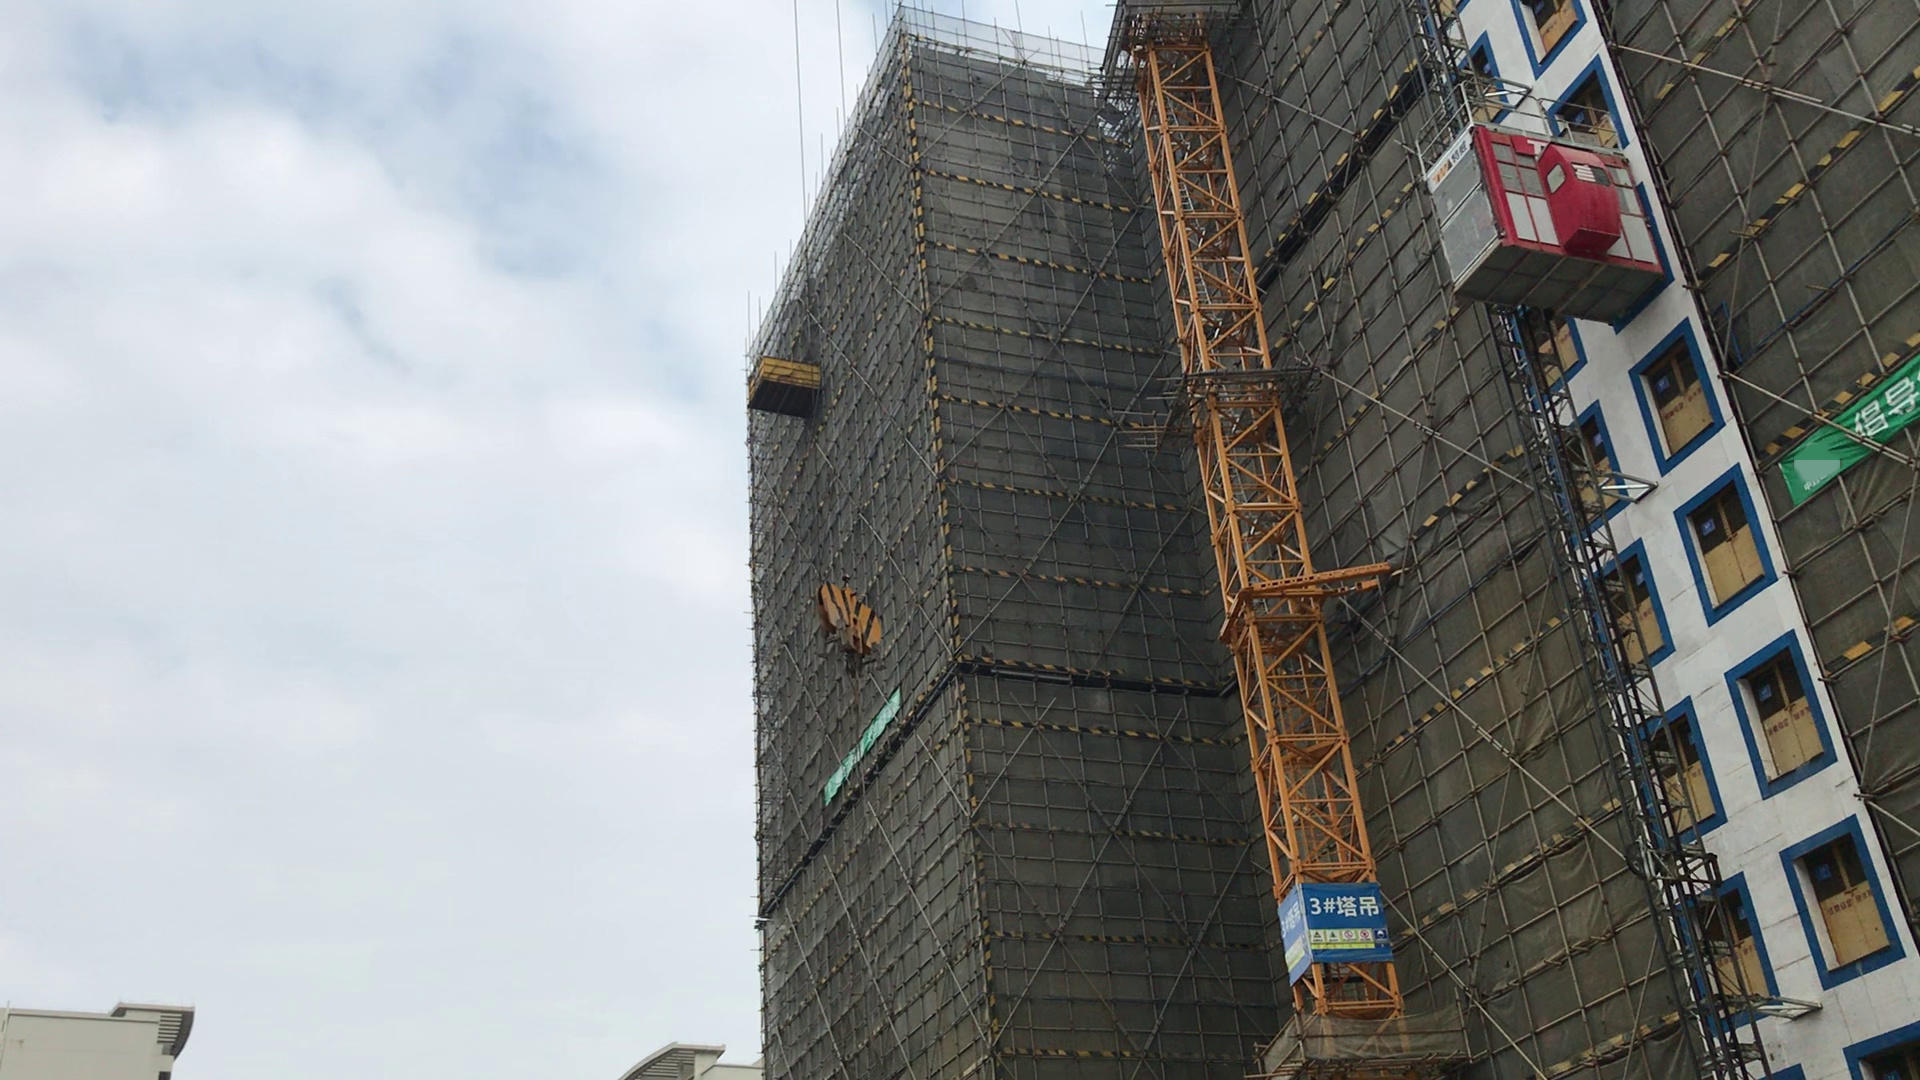hook: (818, 576, 899, 682)
slogan: (1793, 363, 1920, 506), (825, 695, 898, 806), (1311, 928, 1389, 953)
